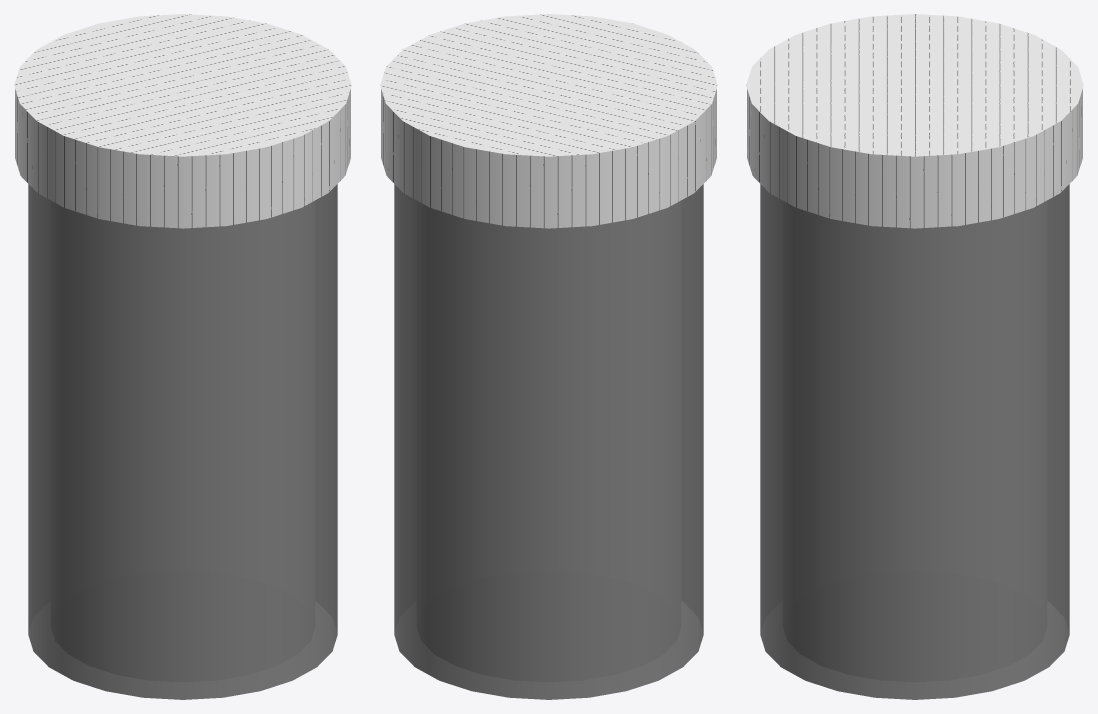
File: SmallTube.dae
The picture shows the model from 3 angles, left to right: view 1: azimuth 30°, elevation 25°; view 2: azimuth 150°, elevation 25°; view 3: azimuth 270°, elevation 25°; orthographic projection.
Visible parts, largest first — view 1: SketchUp (×4); view 2: SketchUp (×4); view 3: SketchUp (×4).
Part boxes in pixels (x1,y1,x2,y2): SketchUp (×4): [14, 14, 351, 699]; SketchUp (×4): [380, 14, 717, 699]; SketchUp (×4): [746, 14, 1083, 699].
Size of the model in its own units: 30.05 by 30.05 by 53.94.
4 materials, 2 textured.
